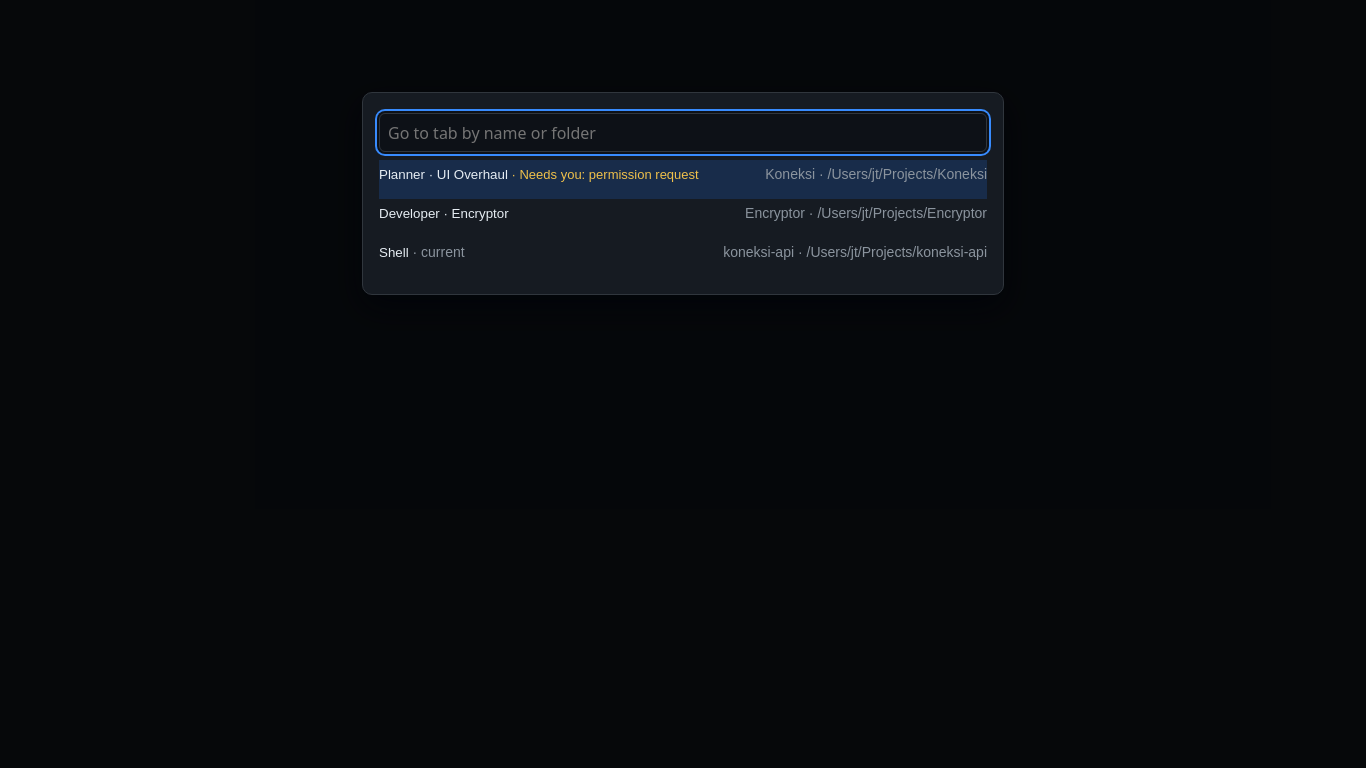
TabSwitcher › shows the folder name, the status, and which tab is current
Expected: the option that starts with "Planner · UI Overhaul" shows "Koneksi", [379, 160, 987, 199]
Expected: the option that starts with "Planner · UI Overhaul" shows "Needs you: permission request", [379, 160, 987, 199]
Type "needs" into the field with placeholder "Go to tab by name or folder" at (683, 133), box [379, 113, 987, 152]
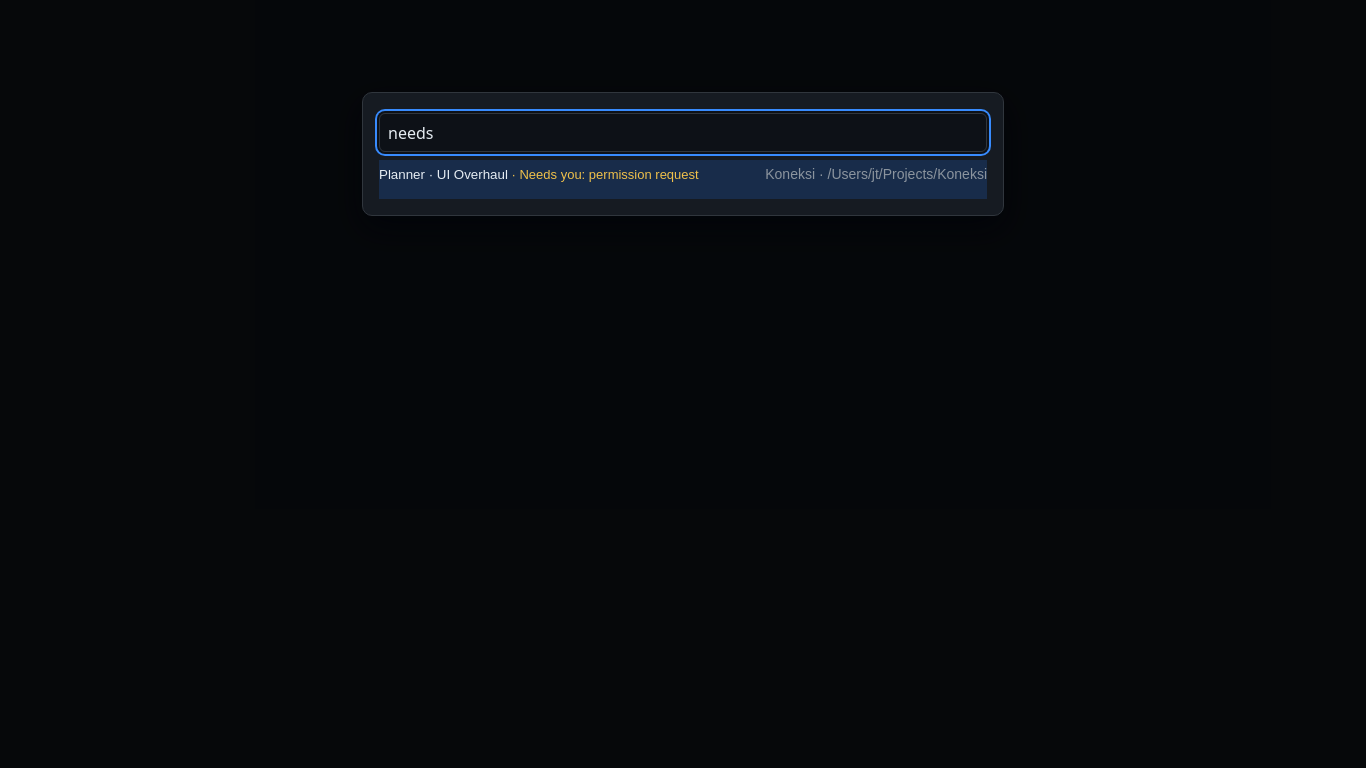
Expected: the number of options is 1, [379, 160, 987, 199]
